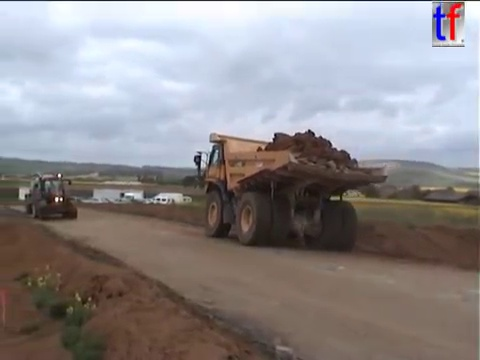truck: (191, 131, 391, 251), (21, 171, 78, 220)
